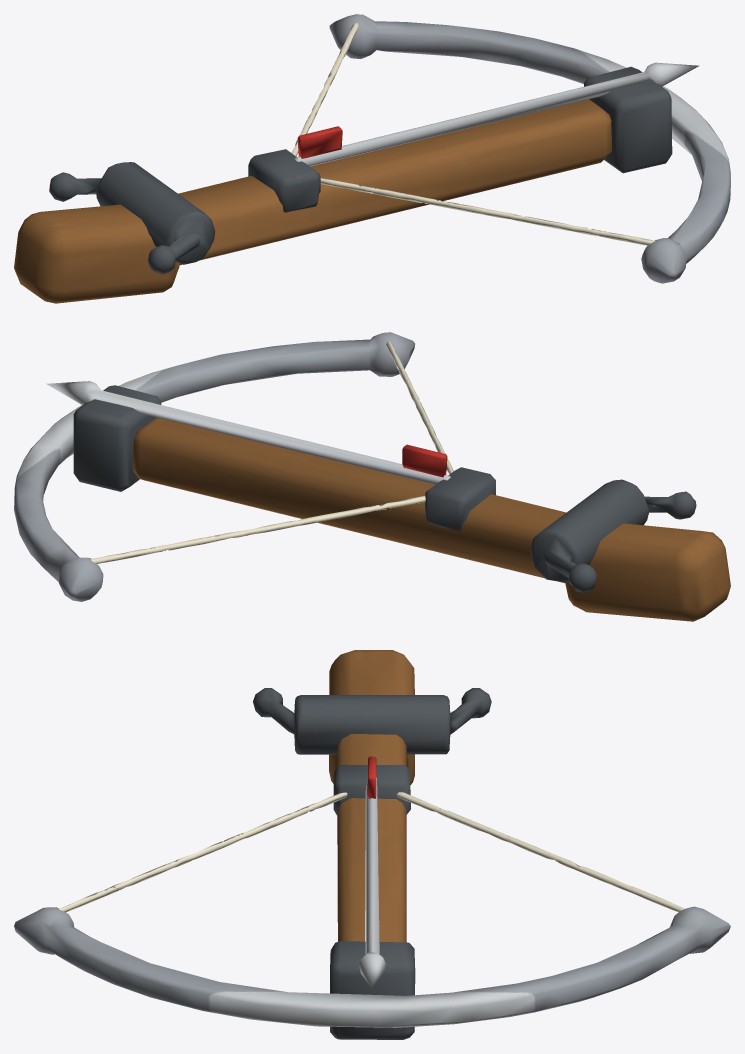
Rendered from heavy-crossbow.glb.
3 views of the same model, one above another, from view 1: azimuth 30°, elevation 25°; view 2: azimuth 150°, elevation 25°; view 3: azimuth 270°, elevation 25° (orthographic). The views are drawn at different scales.
Parts seen in each view (by area): view 1: stock; view 2: stock; view 3: stock.
Boxes of the visible parts, <box> form: stock: <box>14,14,730,303</box>; stock: <box>14,332,730,621</box>; stock: <box>14,650,730,1039</box>.
Size of the model in its own units: 0.9428 by 0.1487 by 0.8277.
Materials: 1 (1 with a texture image).
